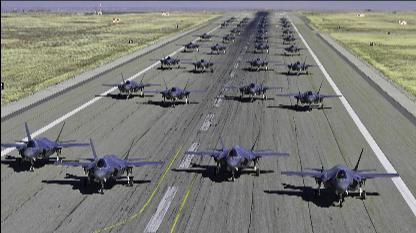F22: (281, 147, 399, 207), (53, 137, 165, 193), (184, 128, 289, 182), (1, 121, 90, 171), (276, 81, 342, 111), (143, 78, 207, 106), (221, 74, 282, 102), (101, 72, 161, 98), (180, 53, 226, 73), (274, 55, 320, 75), (148, 50, 192, 70), (236, 51, 280, 71), (275, 40, 309, 55), (200, 40, 236, 54), (174, 37, 207, 51), (246, 38, 278, 52), (275, 31, 303, 43), (215, 30, 243, 42), (247, 30, 274, 42), (192, 30, 219, 40), (276, 26, 300, 36), (250, 24, 274, 34), (223, 24, 247, 34), (252, 20, 274, 28), (276, 21, 296, 29), (214, 19, 233, 27), (233, 20, 250, 28), (276, 18, 294, 24), (221, 17, 237, 23), (236, 17, 252, 23), (275, 14, 291, 20), (239, 14, 253, 20), (256, 18, 272, 22), (258, 15, 272, 19), (226, 15, 238, 19)
